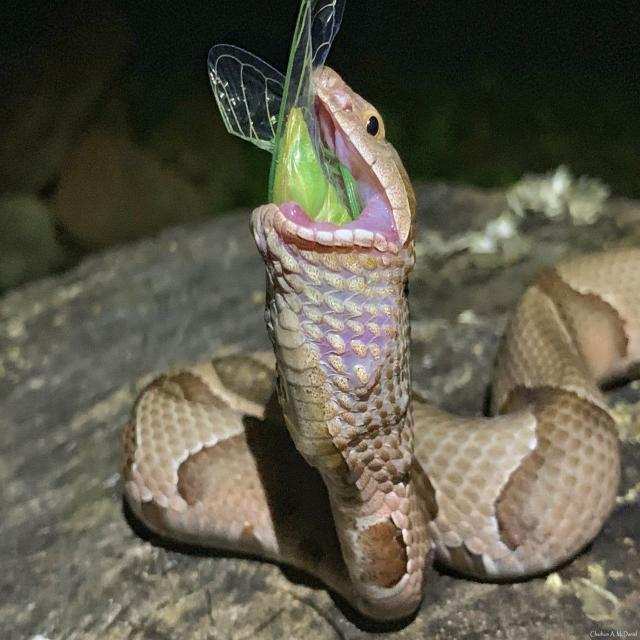Snake: (115, 40, 628, 608)
